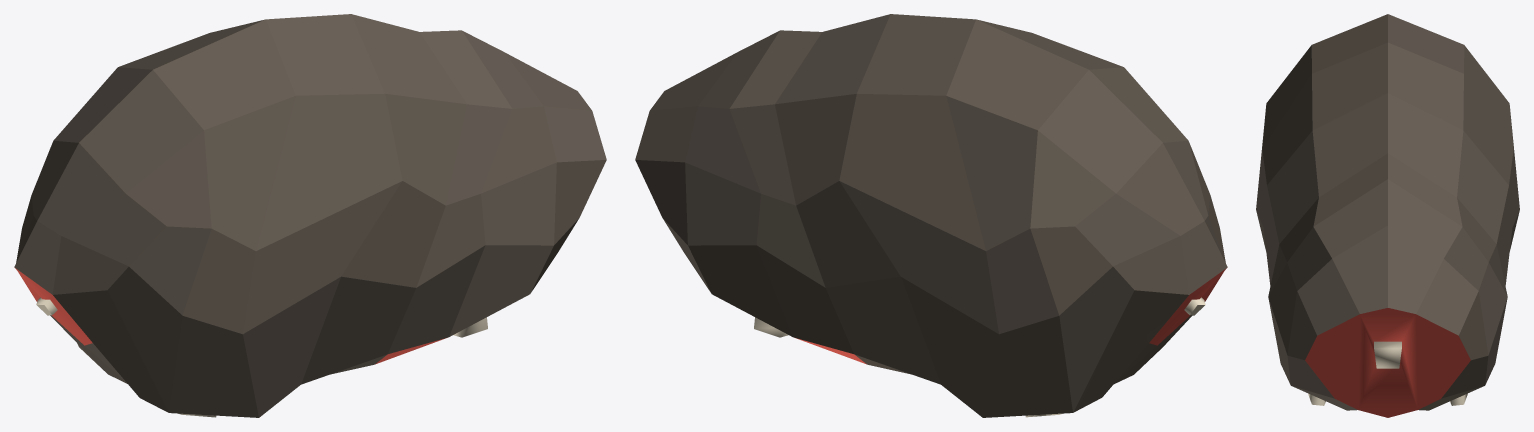
File: racoon-torso.glb
3 renders of one model, left to right at view 1: azimuth 30°, elevation 25°; view 2: azimuth 150°, elevation 25°; view 3: azimuth 270°, elevation 25°, orthographic. The views are drawn at different scales.
Parts seen in each view (by area): view 1: Thorso; view 2: Thorso; view 3: Thorso.
Part boxes in pixels (x1=…): Thorso: x1=14, y1=14, x2=606, y2=417; Thorso: x1=635, y1=14, x2=1227, y2=417; Thorso: x1=1256, y1=14, x2=1519, y2=417.
Size of the model in its own units: 3.49 by 2.1 by 1.6.
